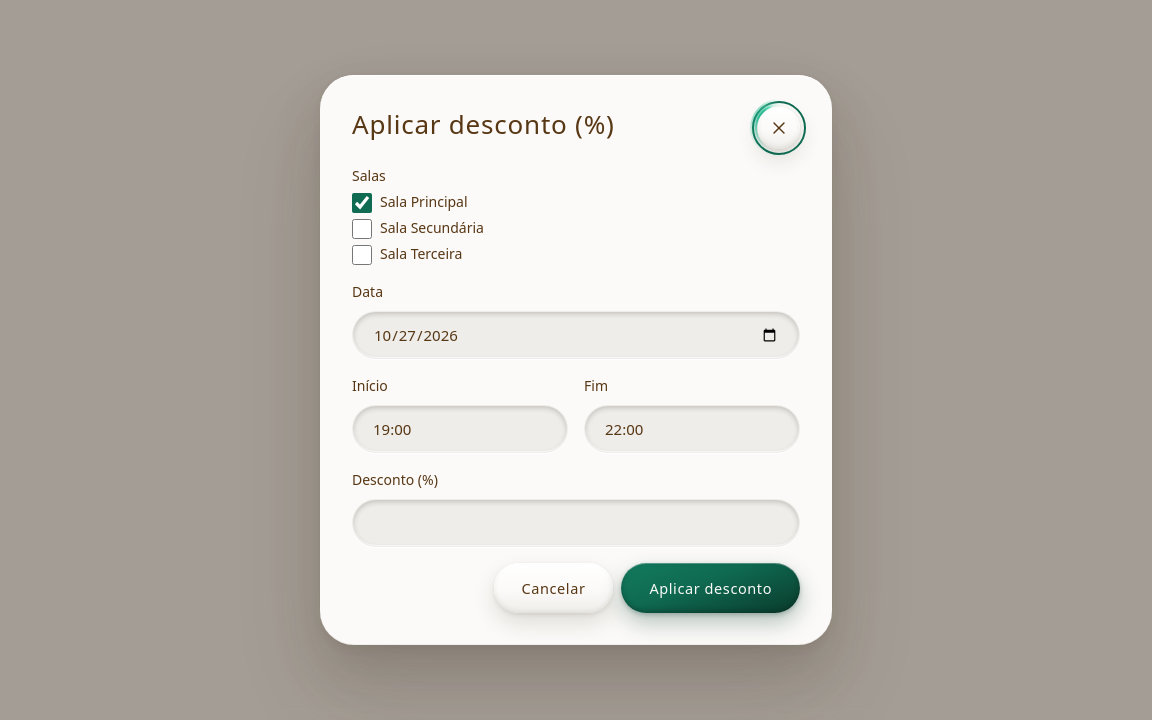
Test: SlotDiscountDialog (REC-133, REC-136) › refuses an end that is not after the start
Check: the checkbox labelled "Sala Principal" is shown, box [352,193,372,213]
Replace the text in the field labelled "Fim" with "18:00" at (692, 429), box [584,405,800,453]
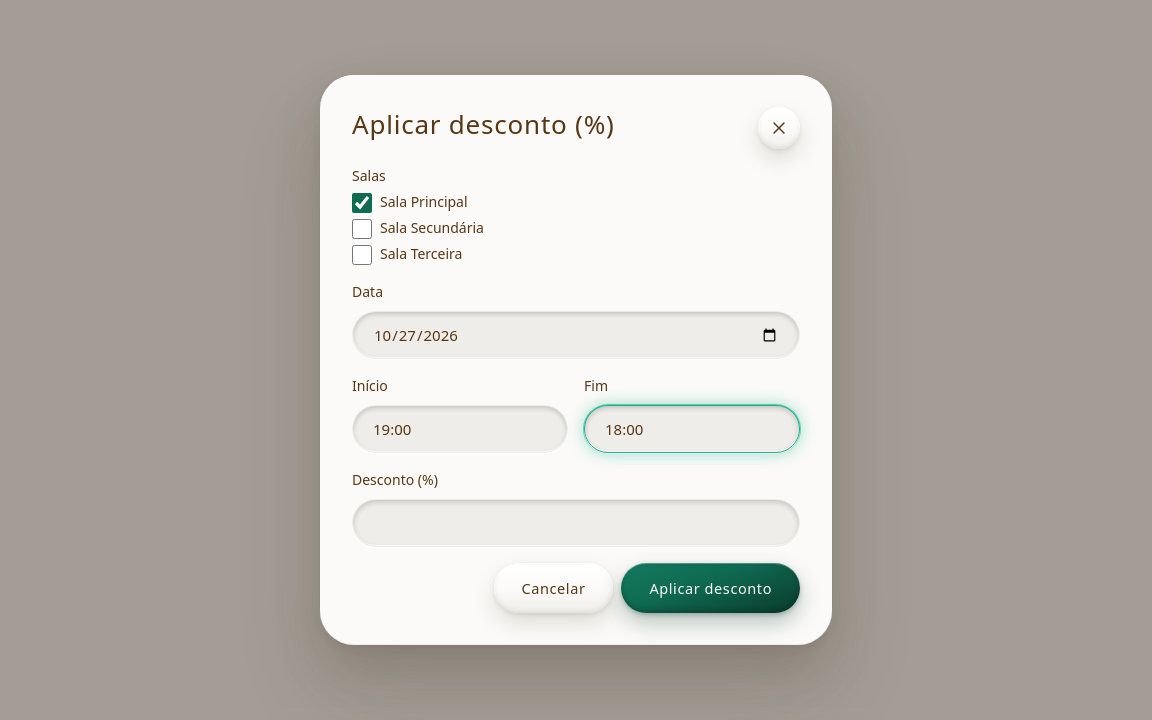
Press Tab
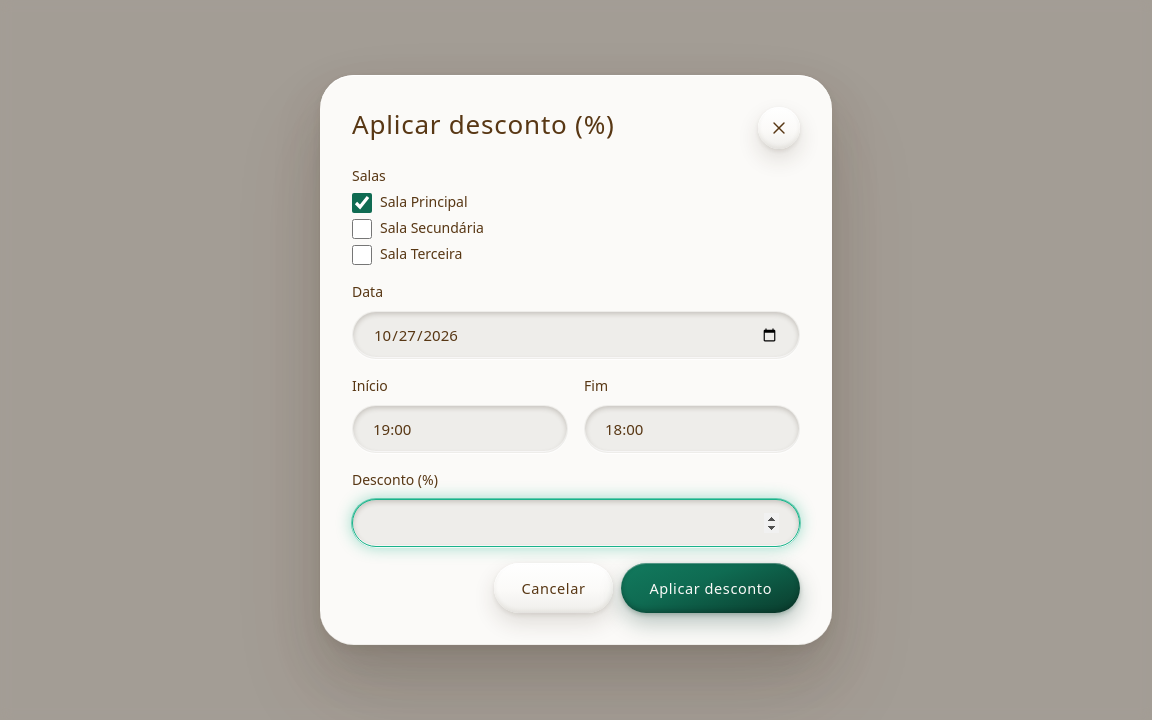
Type "15" into the number field labelled "Desconto (%)" at (576, 523), box [352,499,800,547]
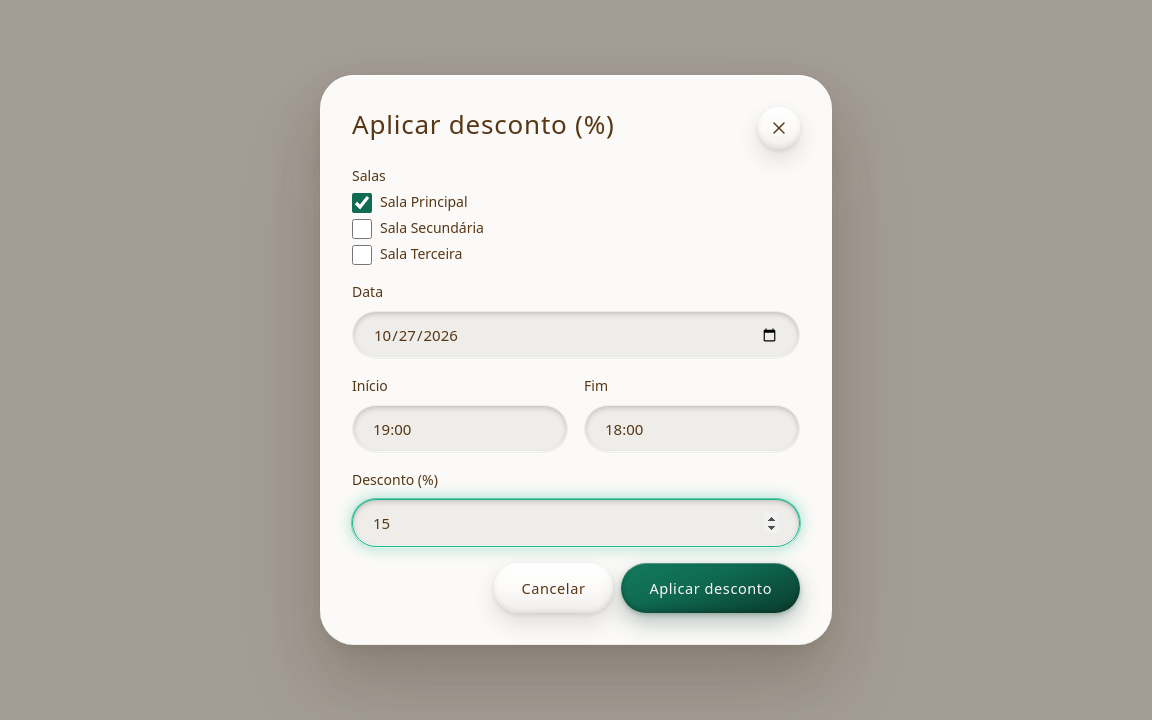
Click the button "Aplicar desconto" at (711, 588), box [622,563,800,613]
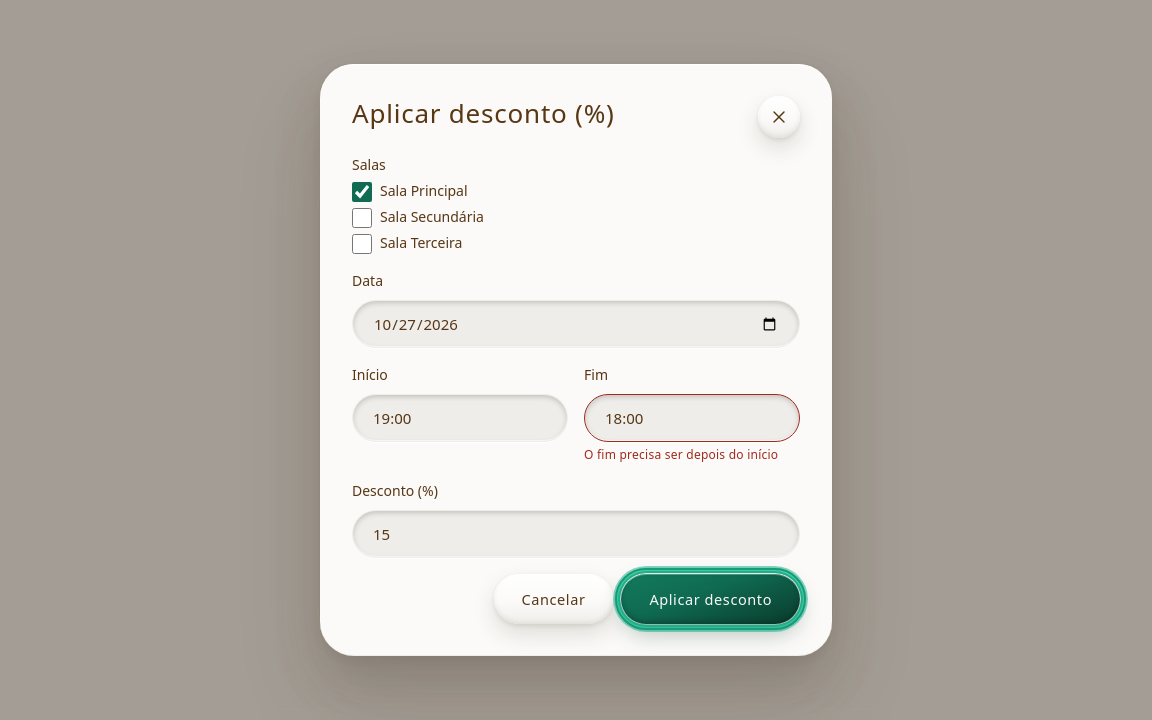
Check: the text "O fim precisa ser depois do início" is shown, box [584,446,800,464]
